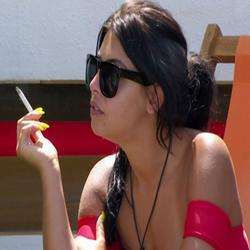smoking: (6, 85, 61, 171)
